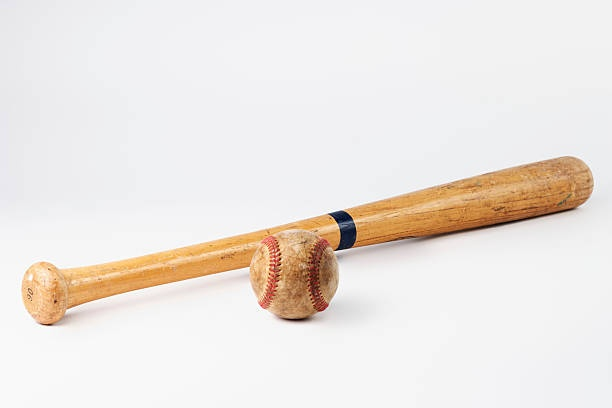bita: (31, 158, 589, 315)
